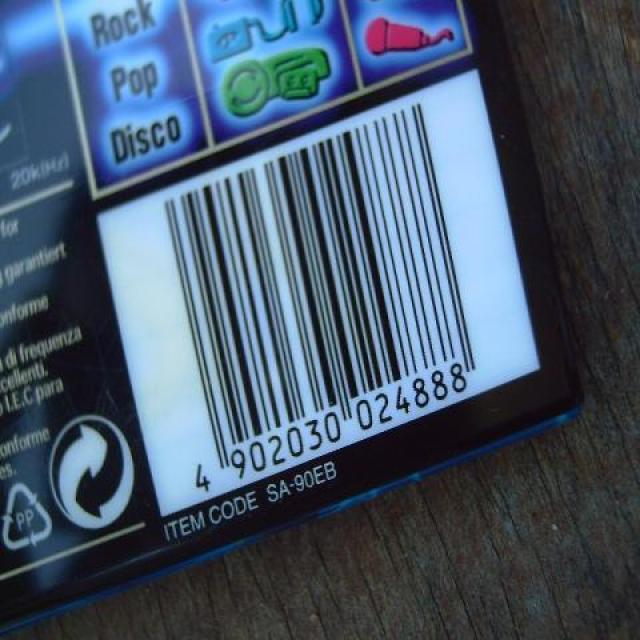Barcode: (96, 69, 540, 519)
